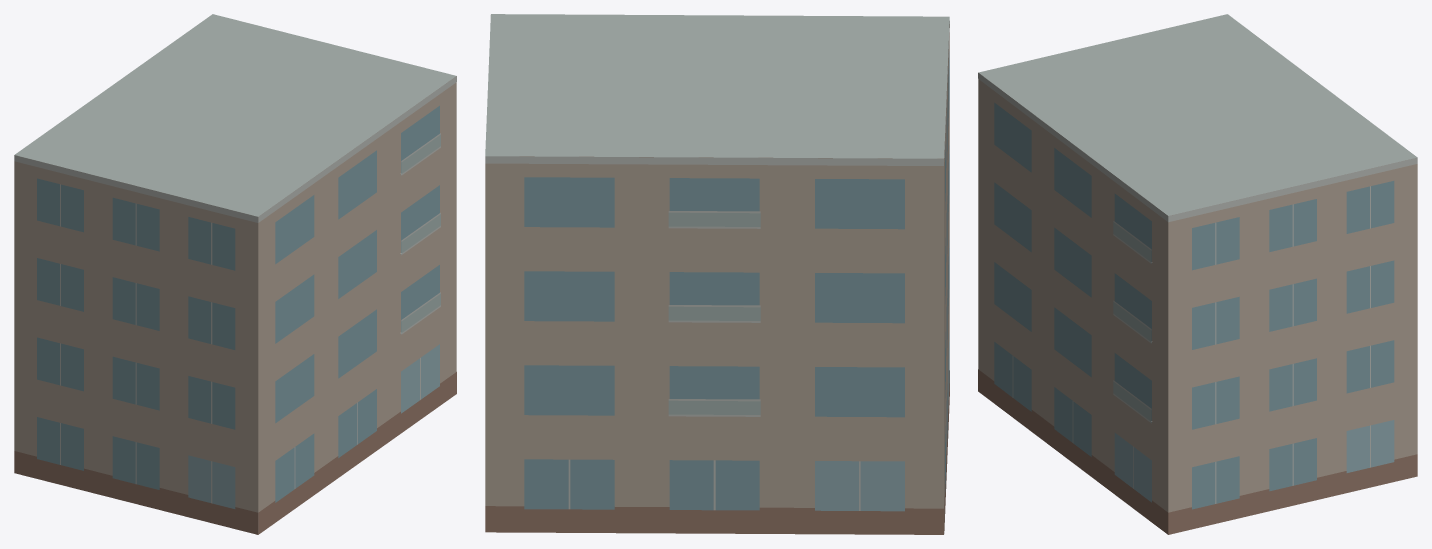
The model's file is survey-upis-32718387.glb.
3 views of the same model, side by side, from view 1: azimuth 30°, elevation 25°; view 2: azimuth 150°, elevation 25°; view 3: azimuth 270°, elevation 25° (orthographic). The views are drawn at different scales.
Parts seen in each view (by area): view 1: survey-upis-32718387.tmp; view 2: survey-upis-32718387.tmp; view 3: survey-upis-32718387.tmp.
Part boxes in pixels (x1,y1,x2,y2): survey-upis-32718387.tmp: (14,14,456,534); survey-upis-32718387.tmp: (485,14,949,534); survey-upis-32718387.tmp: (978,14,1417,534).
Bounding box in the file's own units: 16.85 × 12.4 × 15.5.
